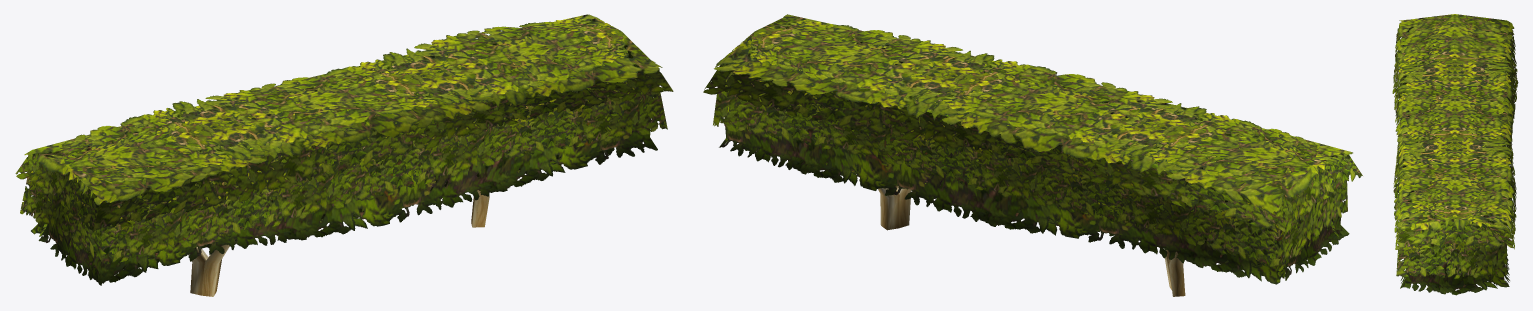
File: silvermoonhedge01.obj
3 views of the same model, side by side, from view 1: azimuth 30°, elevation 25°; view 2: azimuth 150°, elevation 25°; view 3: azimuth 270°, elevation 25° (orthographic). The views are drawn at different scales.
Parts seen in each view (by area): view 1: SILVERMOONHEDGE010; view 2: SILVERMOONHEDGE010; view 3: SILVERMOONHEDGE010.
Part boxes in pixels (bbox=[...]): SILVERMOONHEDGE010: bbox=[15, 14, 673, 296]; SILVERMOONHEDGE010: bbox=[703, 14, 1362, 296]; SILVERMOONHEDGE010: bbox=[1392, 14, 1518, 295].
Bounding box in the file's own units: 4.07 × 1.09 × 1.01.
Materials: 1 (1 with a texture image).
